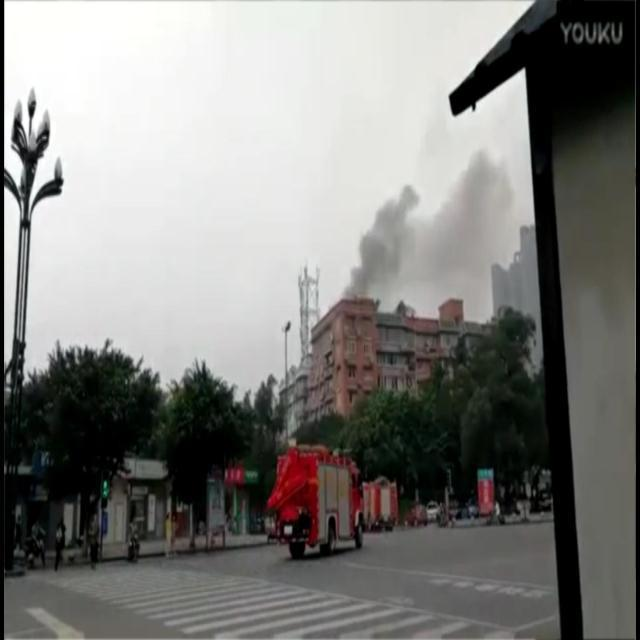Smoke: (328, 68, 548, 324)
